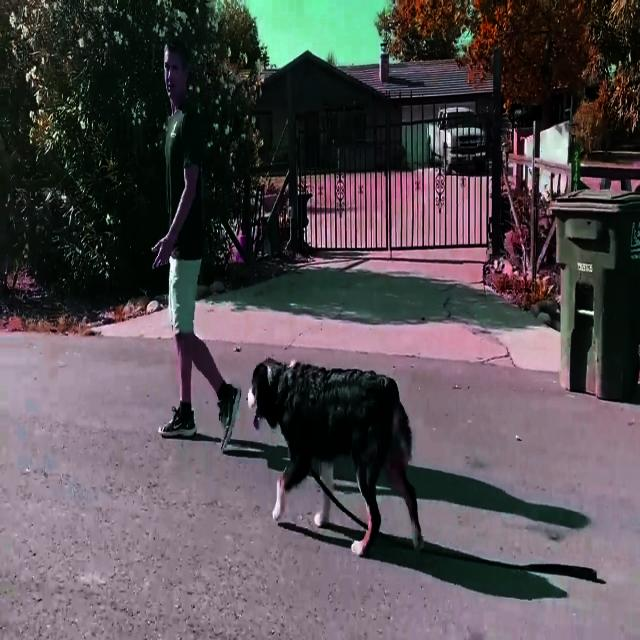Unleashed_Dog: (171, 257, 427, 558)
